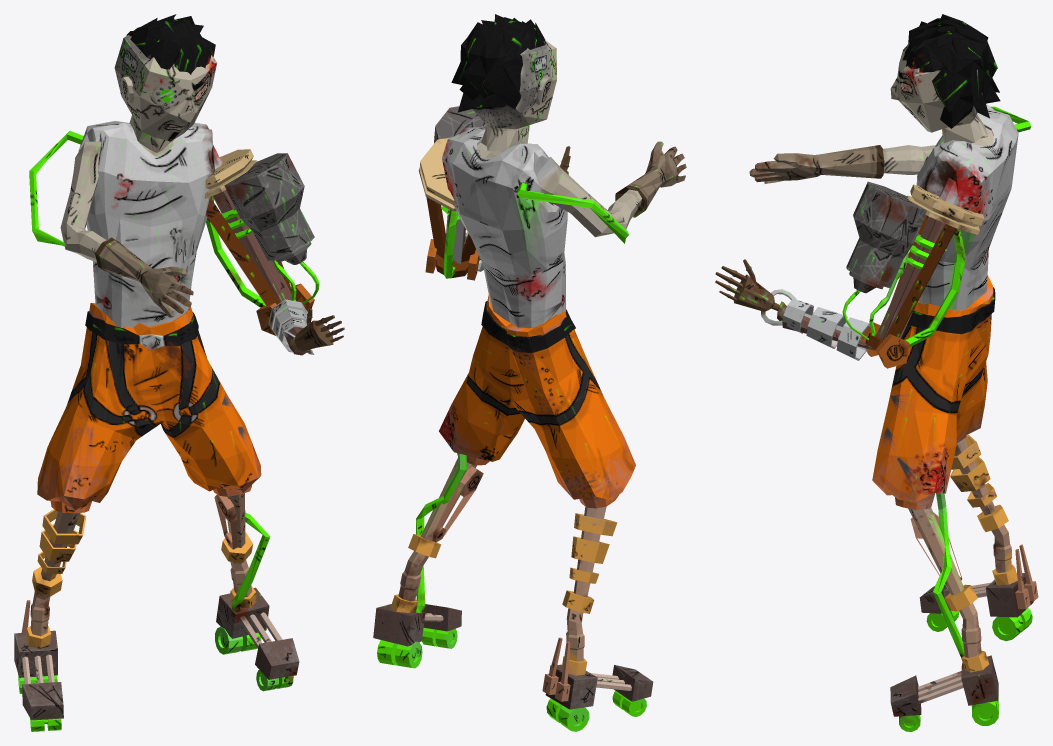
The model's file is CyborgFINALAnimation_000016.obj.
3 renders of one model, left to right at view 1: azimuth 30°, elevation 25°; view 2: azimuth 150°, elevation 25°; view 3: azimuth 270°, elevation 25°, orthographic. The views are drawn at different scales.
Visible parts, largest first — view 1: CyborgMesh_Cube.002; view 2: CyborgMesh_Cube.002; view 3: CyborgMesh_Cube.002.
Boxes of the visible parts, box(x1,y1,x2,y2) form: CyborgMesh_Cube.002: box(14, 14, 344, 731); CyborgMesh_Cube.002: box(373, 14, 686, 731); CyborgMesh_Cube.002: box(715, 14, 1038, 731).
Bounding box in the file's own units: 3.77 × 9.59 × 4.22.
